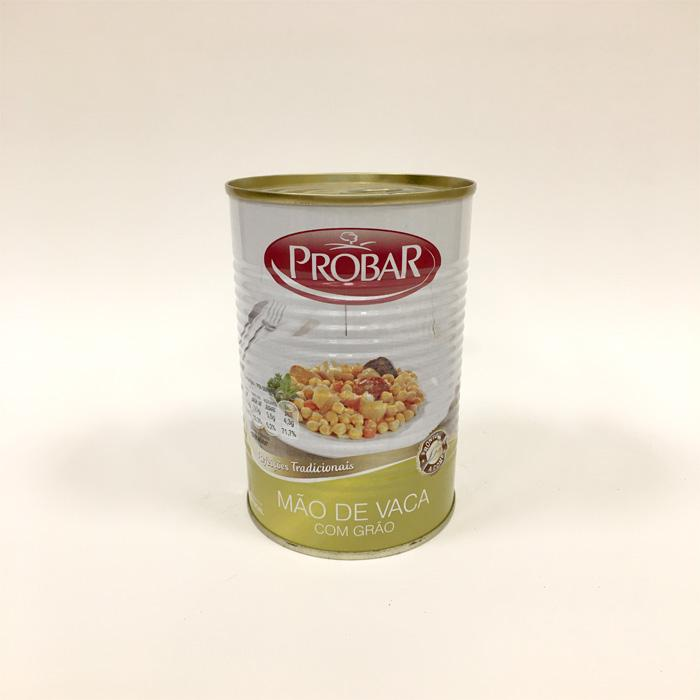metal: (228, 175, 476, 559)
